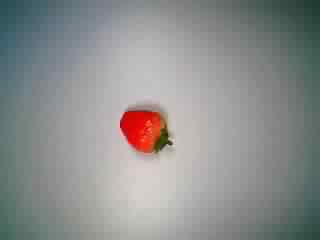strawberry: (112, 96, 180, 160)
